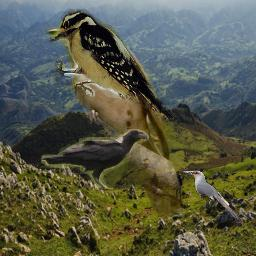Crow: (41, 129, 149, 189)
Cuckoo: (44, 17, 185, 221), (182, 170, 244, 225)
Woodpecker: (49, 6, 174, 122)
